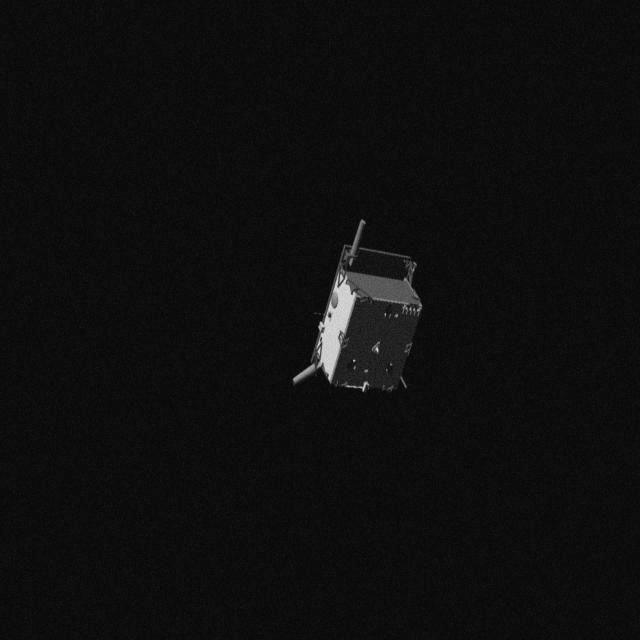satellite: (282, 206, 426, 424)
